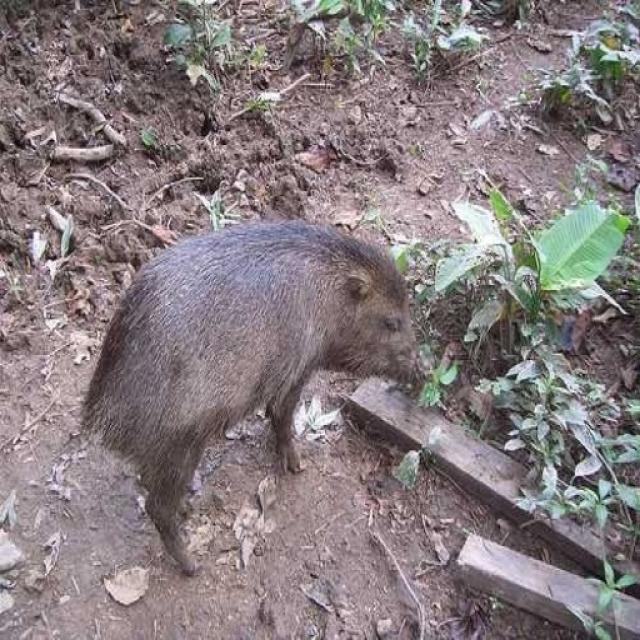pig: (56, 145, 468, 570)
